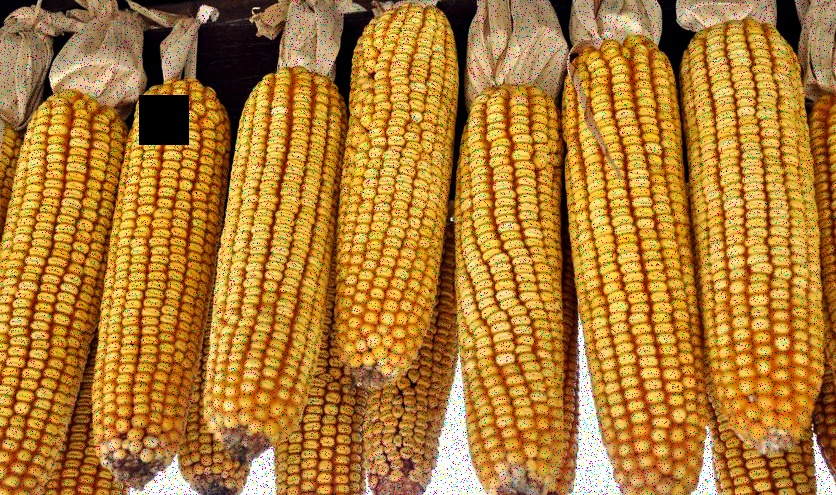corn: (562, 40, 706, 488), (679, 19, 823, 451), (338, 3, 458, 388), (1, 91, 117, 479), (458, 90, 566, 495), (220, 72, 323, 454), (107, 88, 195, 474)
